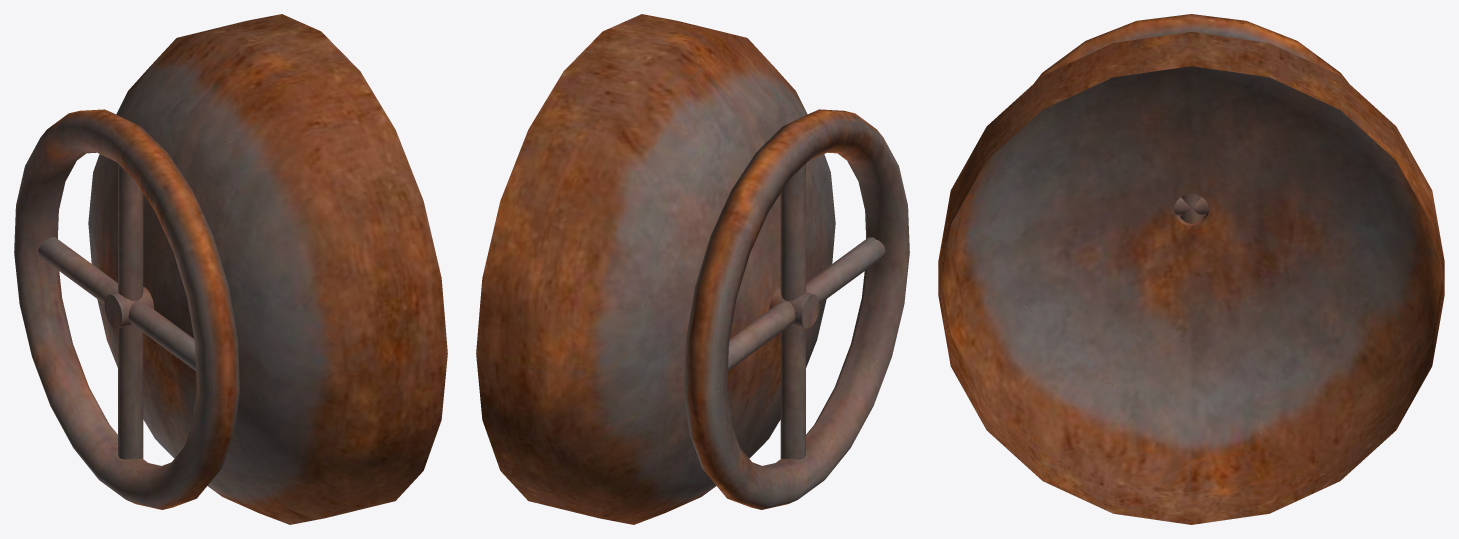
Rendered from iron_valve_wheel.glb.
The picture shows the model from 3 angles, left to right: view 1: azimuth 30°, elevation 25°; view 2: azimuth 150°, elevation 25°; view 3: azimuth 270°, elevation 25°; orthographic projection.
Parts seen in each view (by area): view 1: iron_valve_wheel; view 2: iron_valve_wheel; view 3: iron_valve_wheel.
Boxes of the visible parts, x1,y1,x2,y2 form: iron_valve_wheel: (14,14,447,524); iron_valve_wheel: (476,14,909,524); iron_valve_wheel: (938,14,1444,524).
Size of what is drawn, in the model's own units: 0.1214 by 0.25 by 0.25.
1 material, 1 textured.
